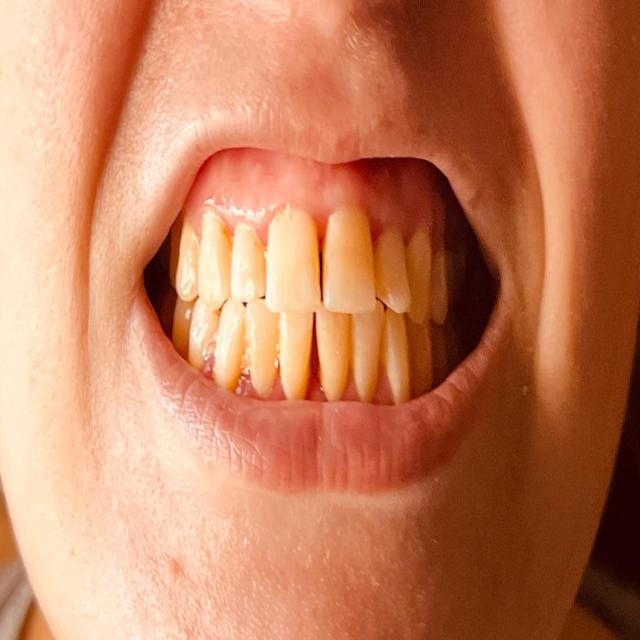tooth: (324, 219, 372, 309), (270, 225, 318, 305), (315, 312, 349, 396), (378, 233, 414, 310), (283, 308, 311, 396), (250, 306, 280, 386), (236, 233, 264, 297), (356, 316, 379, 390), (216, 302, 240, 372), (202, 221, 224, 296), (388, 314, 410, 386), (176, 228, 196, 294), (415, 241, 431, 323), (192, 303, 214, 358), (416, 324, 432, 392), (434, 256, 447, 322), (173, 302, 189, 350)
